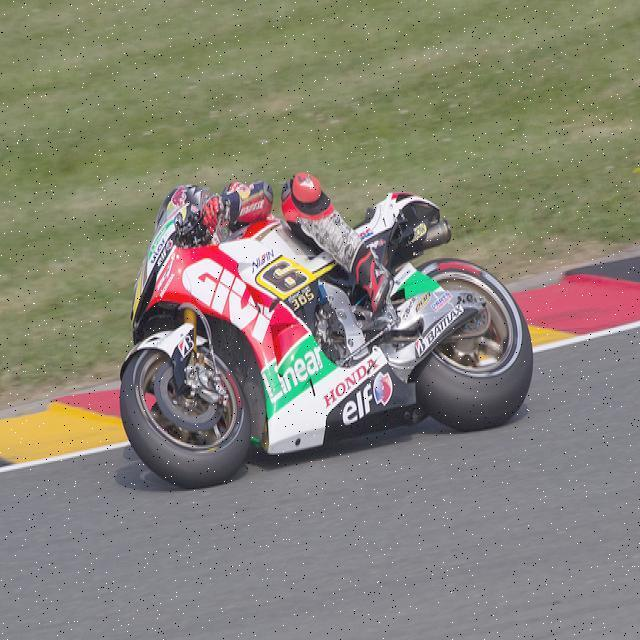motorcycle: (110, 185, 546, 494)
